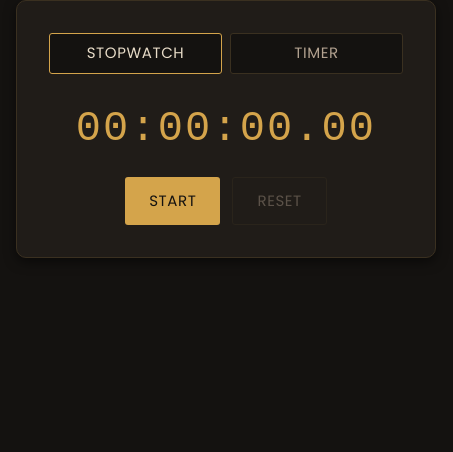
Scenario: Stopwatch — timer mode › accepts a custom duration in minutes
This screenshot has width=453, height=452.
Step 1. Click the tab "Timer" → coordinates (316, 53), box [230,33,403,74]
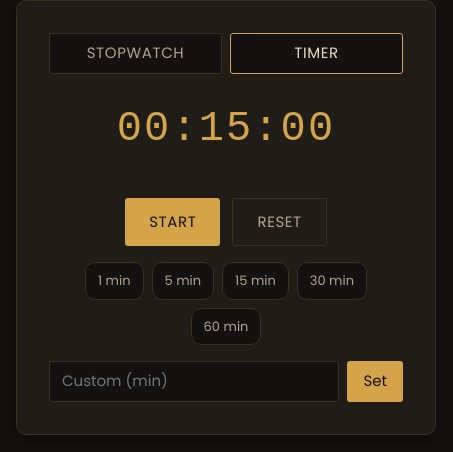
Step 2. Type "2" into the number field with placeholder "Custom (min)" → coordinates (194, 381), box [49,361,339,402]
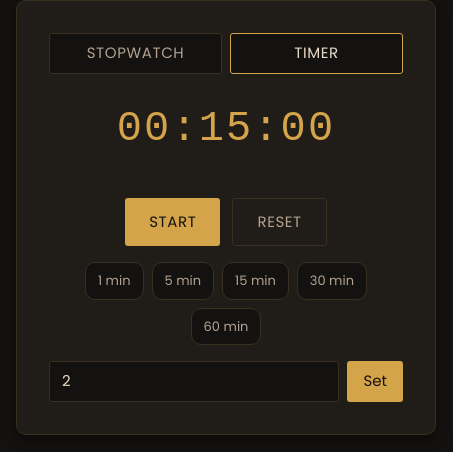
Step 3. Click the button "Set" → coordinates (375, 381), box [347,361,403,402]
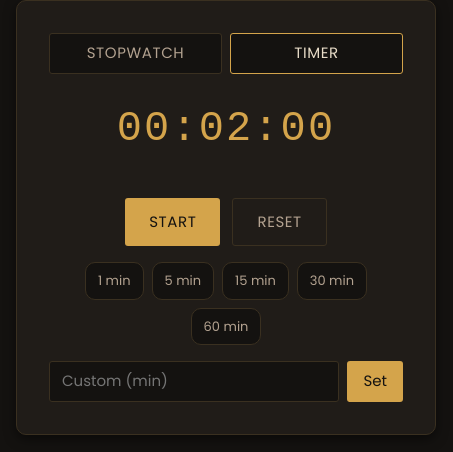
Expected: the text with class "stopwatch-display" reads "00:02:00", [117,104,335,152]
